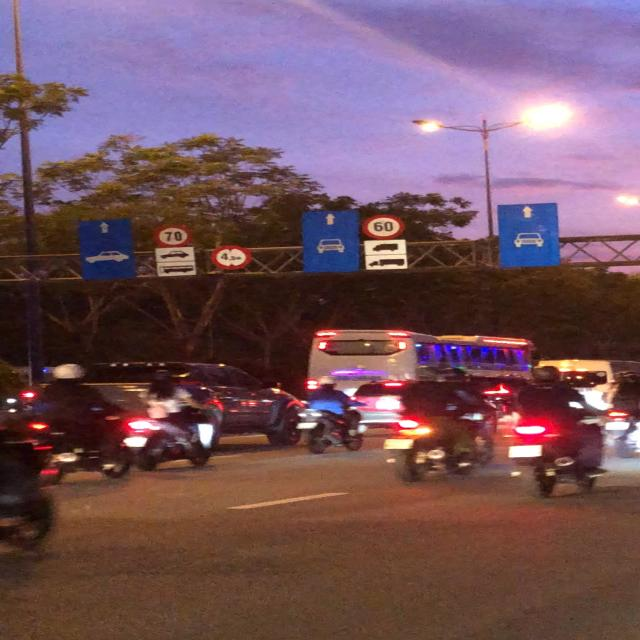Bien bao han che chieu cao: (208, 246, 256, 273)
Bien bao toc do toi da cho phep: (358, 212, 415, 242), (148, 224, 195, 249)
